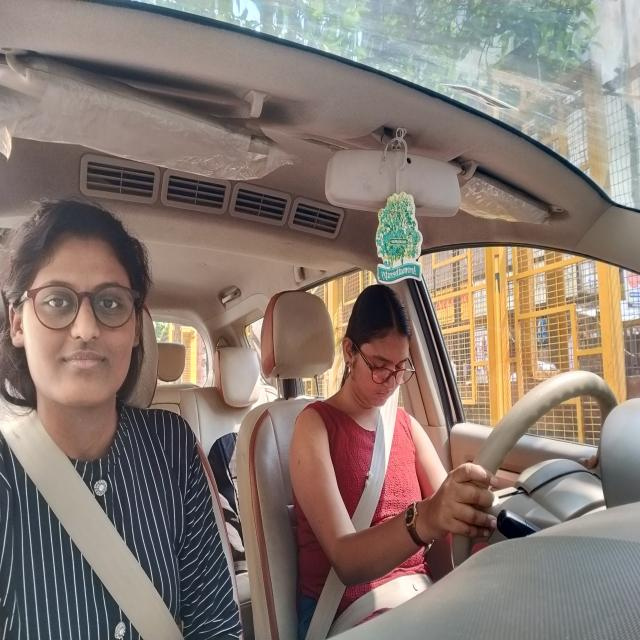drowsy: (338, 279, 424, 438)
person: (0, 181, 165, 444)
